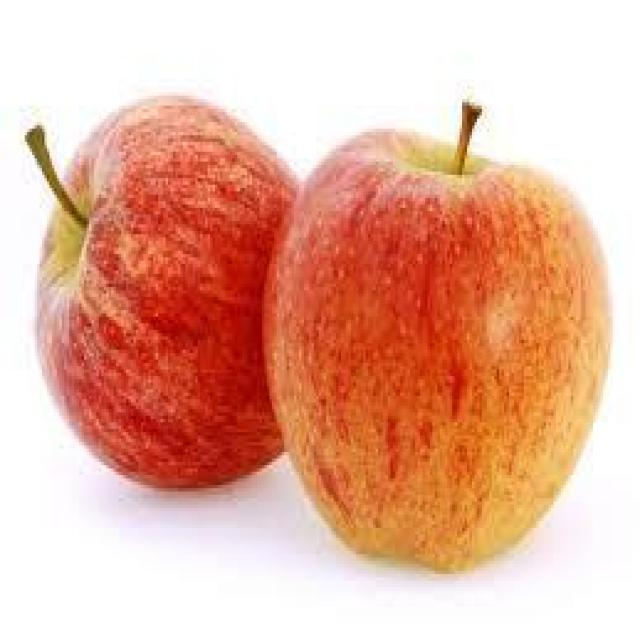maca: (259, 95, 613, 570), (22, 89, 302, 488)
